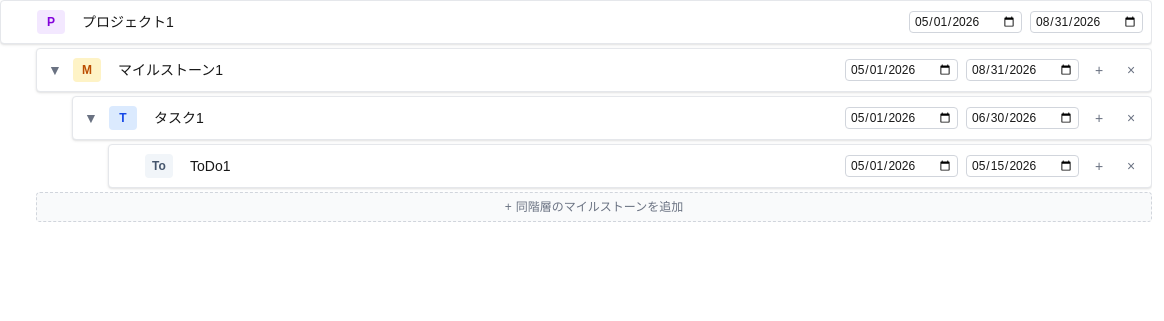
Test: ManagementTree — 新規 Milestone 追加でスクロール › createMilestone が id="new-m1" を返した後 scrollIntoView が呼ばれる
Note: 「同階層のマイルストーンを追加」ボタンを押す
What coordinates should you click on to do the following:
click the button "+ 同階層のマイルストーンを追加"
I would click on:
 (594, 207)
Its box is x1=36 y1=192 x2=1152 y2=222.
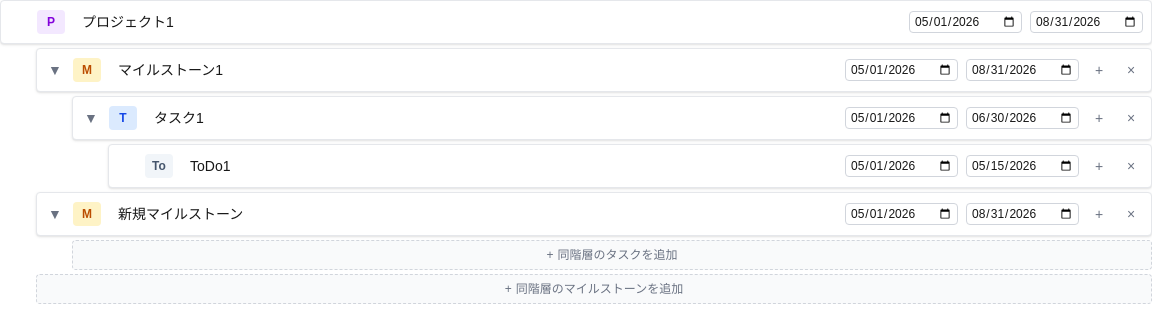
Result: the 5th field showing "新規マイルストーン" is shown at x1=109 y1=199 x2=837 y2=229
